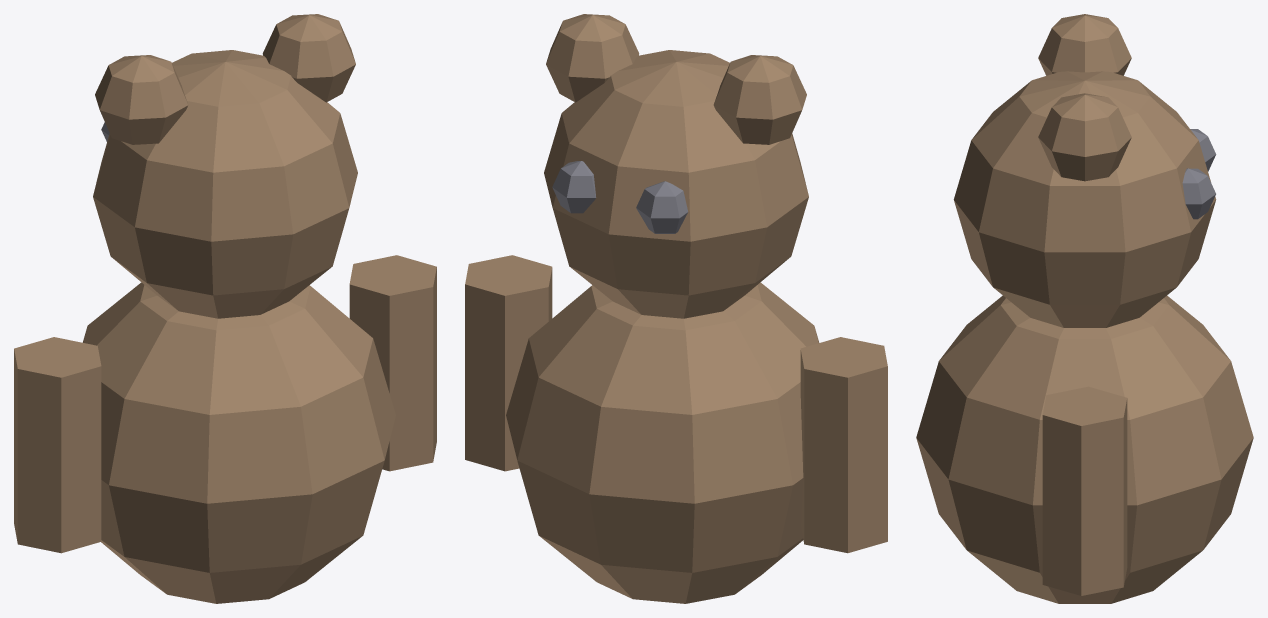
Rendered from kid_pelucia2.glb.
3 renders of one model, left to right at view 1: azimuth 30°, elevation 25°; view 2: azimuth 150°, elevation 25°; view 3: azimuth 270°, elevation 25°, orthographic. The views are drawn at different scales.
Visible parts, largest first — view 1: KID_PELUCIA2_v01; view 2: KID_PELUCIA2_v01; view 3: KID_PELUCIA2_v01.
Boxes of the visible parts, x1=… form: KID_PELUCIA2_v01: x1=14, y1=14, x2=436, y2=603; KID_PELUCIA2_v01: x1=465, y1=14, x2=887, y2=603; KID_PELUCIA2_v01: x1=916, y1=14, x2=1253, y2=603.
Bounding box in the file's own units: 0.4997 × 0.63 × 0.36.
